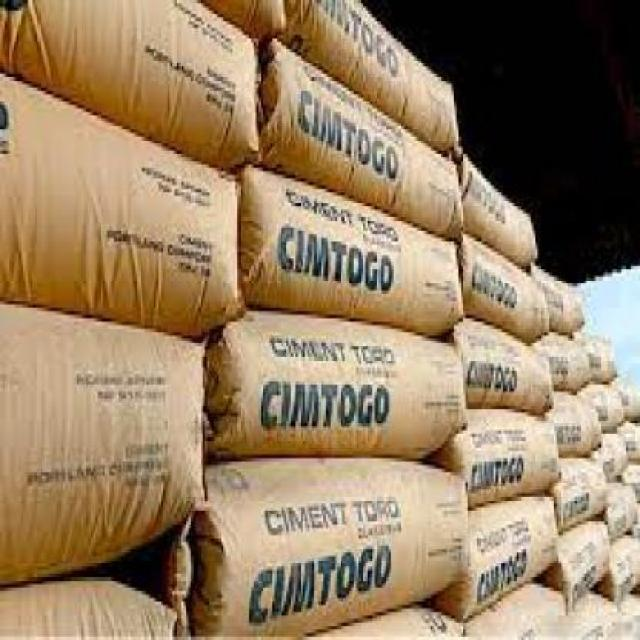gunny_bag: (0, 68, 245, 339), (4, 307, 207, 580), (206, 464, 468, 640), (2, 0, 256, 165), (256, 41, 460, 235), (205, 310, 465, 461), (241, 170, 462, 340), (278, 0, 460, 153), (2, 566, 179, 640), (471, 494, 552, 631), (460, 231, 551, 345), (453, 320, 559, 415), (467, 405, 561, 506), (460, 164, 536, 267), (305, 593, 468, 640), (471, 583, 570, 639), (555, 509, 606, 614), (553, 451, 605, 531), (531, 329, 591, 389), (542, 393, 604, 451), (532, 270, 583, 339), (574, 599, 640, 637), (204, 0, 282, 32), (577, 380, 625, 428), (588, 432, 630, 480), (583, 339, 617, 380), (608, 485, 633, 537), (608, 382, 640, 413), (617, 421, 640, 458)
